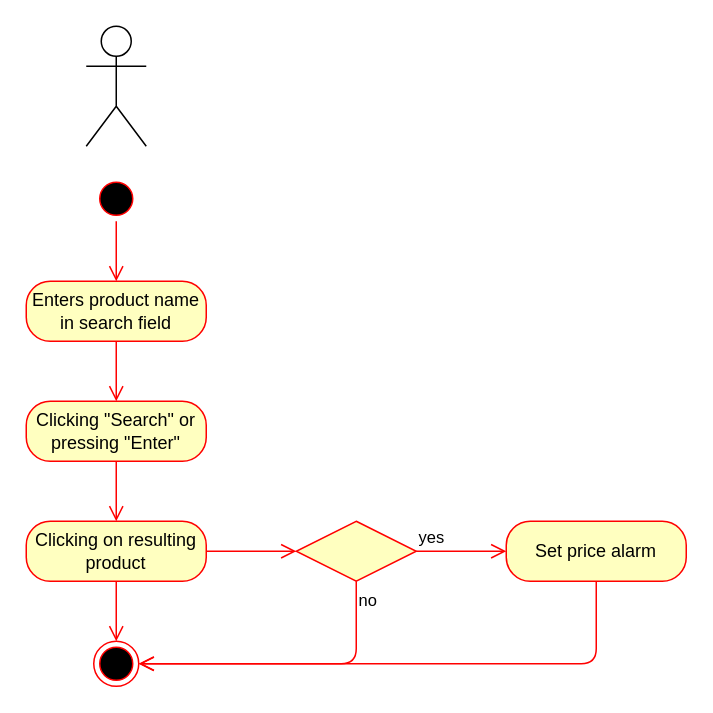
This 713x713 diagram has some shape labels left out. The centre of each missing label's shape, as x and y in pixels:
Condition: the point at 355,550
User: the point at 115,85
